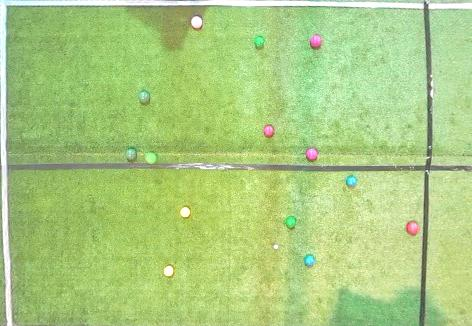blue: (304, 255, 315, 267), (346, 176, 357, 188)
green: (144, 152, 157, 164), (138, 91, 150, 104), (125, 148, 137, 160), (286, 216, 296, 229), (254, 37, 264, 48)
red: (406, 221, 419, 235), (310, 34, 321, 48), (191, 16, 203, 28), (306, 148, 318, 160), (264, 125, 275, 137)
vline: (419, 1, 472, 325), (0, 1, 17, 325)
white: (274, 245, 278, 249)
yellow: (180, 207, 191, 218), (164, 265, 174, 276)
